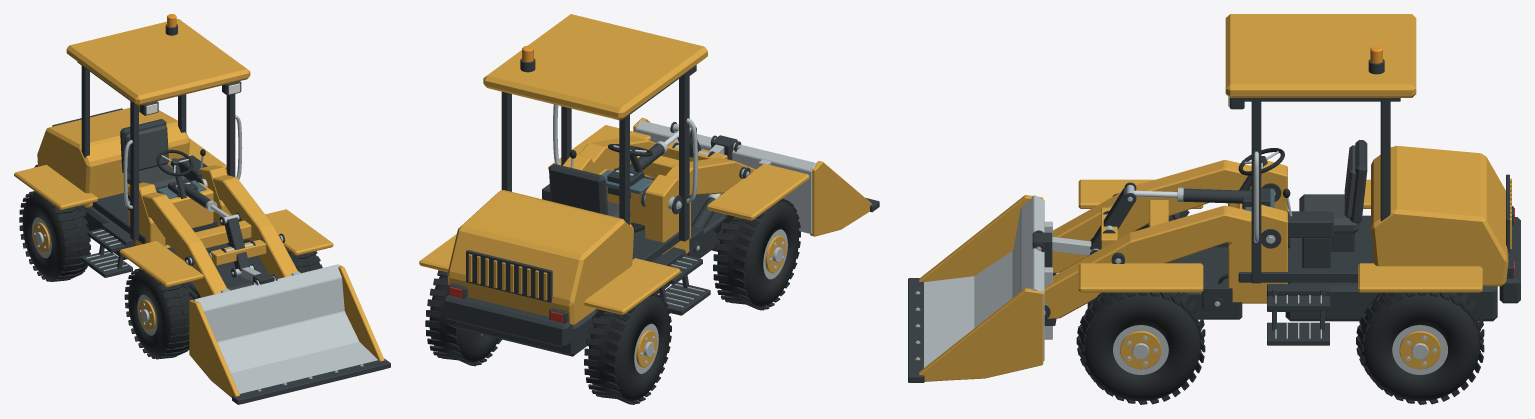
The model's file is city-compact-wheel-loader.glb.
The picture shows the model from 3 angles, left to right: view 1: azimuth 30°, elevation 25°; view 2: azimuth 150°, elevation 25°; view 3: azimuth 270°, elevation 25°; orthographic projection. The views are drawn at different scales.
Visible parts, largest first — view 1: Assembly | Warm loader ochre enamel, Assembly | Satin zinc and machined hardware, Assembly | Graphite chassis steel, Assembly | Charcoal tire and flexible skirt, Assembly | Charcoal padded seat; view 2: Assembly | Warm loader ochre enamel, Assembly | Graphite chassis steel, Assembly | Charcoal tire and flexible skirt, Assembly | Satin zinc and machined hardware; view 3: Assembly | Warm loader ochre enamel, Assembly | Graphite chassis steel, Assembly | Charcoal tire and flexible skirt, Assembly | Satin zinc and machined hardware, Assembly | Charcoal padded seat.
Boxes of the visible parts, box(x1,y1,x2,y2) form: Assembly | Warm loader ochre enamel: box(14, 19, 384, 397); Assembly | Satin zinc and machined hardware: box(31, 115, 382, 403); Assembly | Graphite chassis steel: box(34, 24, 390, 404); Assembly | Charcoal tire and flexible skirt: box(19, 149, 322, 359); Assembly | Charcoal padded seat: box(124, 125, 186, 191); Assembly | Warm loader ochre enamel: box(419, 14, 871, 367); Assembly | Graphite chassis steel: box(443, 58, 879, 356); Assembly | Charcoal tire and flexible skirt: box(425, 144, 800, 404); Assembly | Satin zinc and machined hardware: box(481, 104, 816, 373); Assembly | Warm loader ochre enamel: box(919, 14, 1511, 381); Assembly | Graphite chassis steel: box(908, 59, 1520, 382); Assembly | Charcoal tire and flexible skirt: box(1076, 148, 1484, 404); Assembly | Satin zinc and machined hardware: box(915, 151, 1447, 381); Assembly | Charcoal padded seat: box(1299, 145, 1359, 233).
Bounding box in the file's own units: 1.71 × 2.42 × 4.08.
